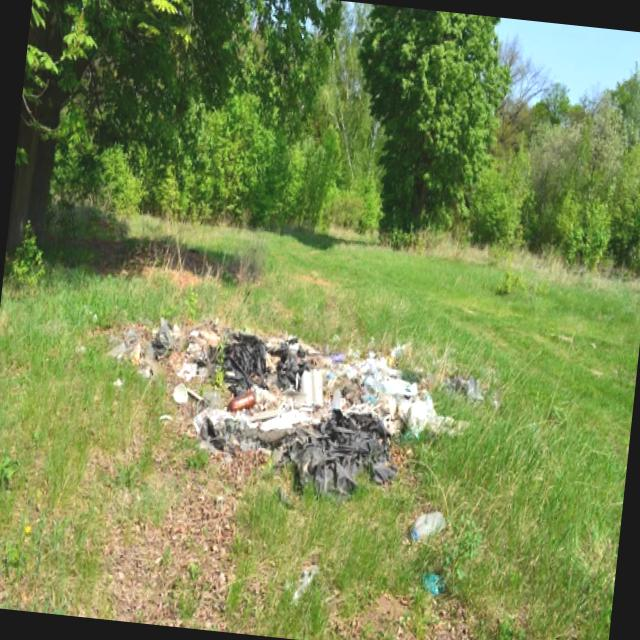garbage: (130, 306, 415, 542)
